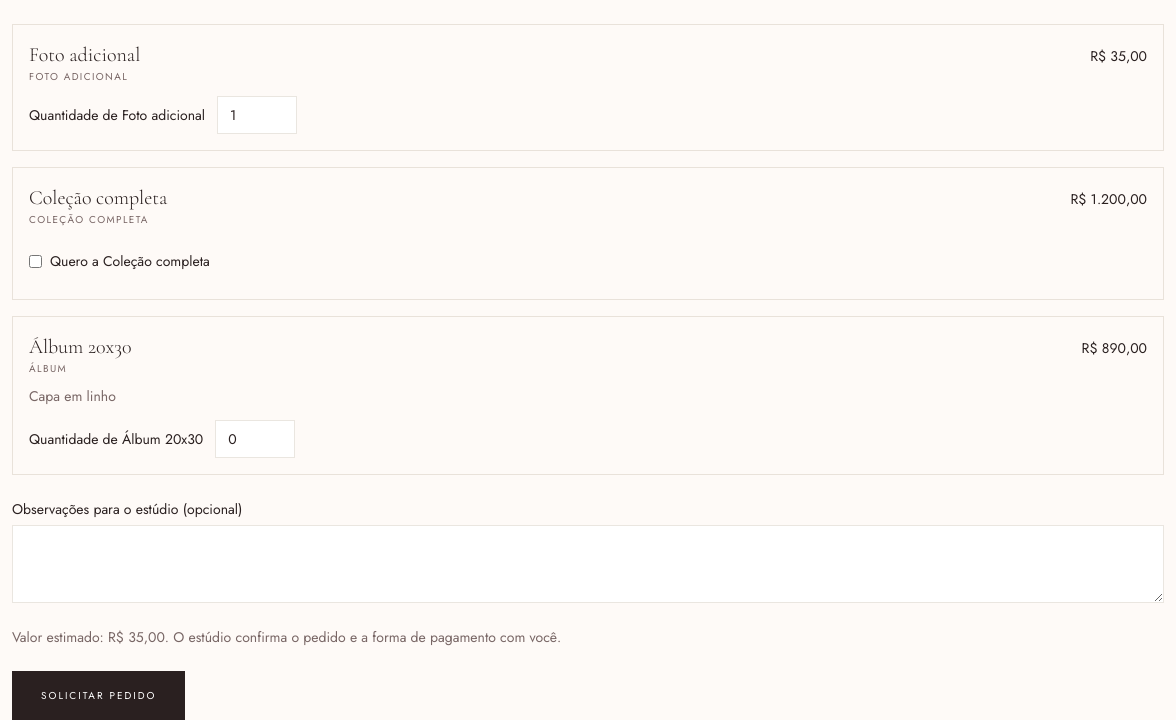
ClientUpsellOffers › keeps the choice and shows the error when the request fails
This screenshot has width=1176, height=720.
(page scrolled)
What coordinates should you click on to do the following:
click the button "Solicitar pedido"
I would click on:
 (99, 696)
Its box is [12,671,185,719].
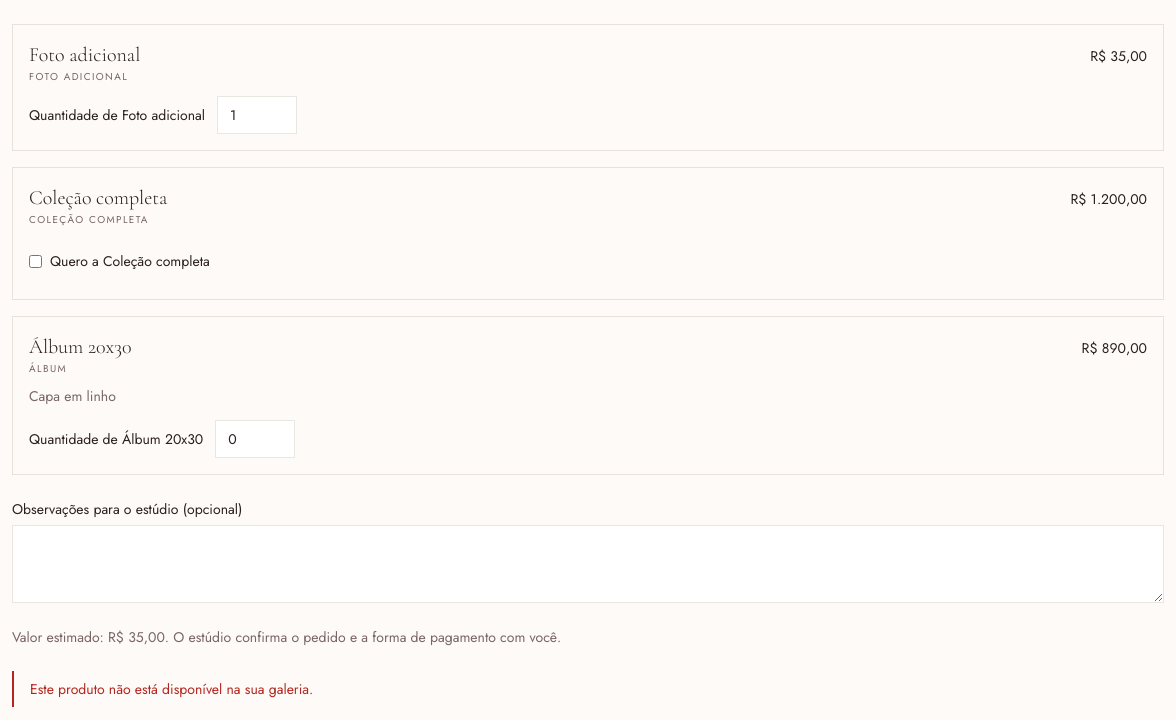
Expected: the number field labelled "Quantidade de Foto adicional" holds "1", [217,96,297,134]
Result: the message reads "Este produto não está disponível na sua galeria." at [30,679,313,699]
